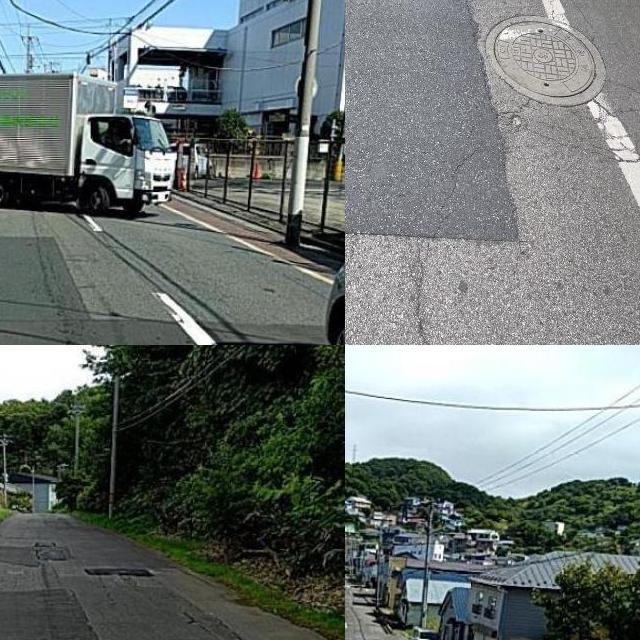Lubang: (483, 18, 604, 101)
Sambungan: (345, 0, 520, 244), (0, 235, 199, 345), (0, 586, 98, 640), (0, 544, 39, 568)
